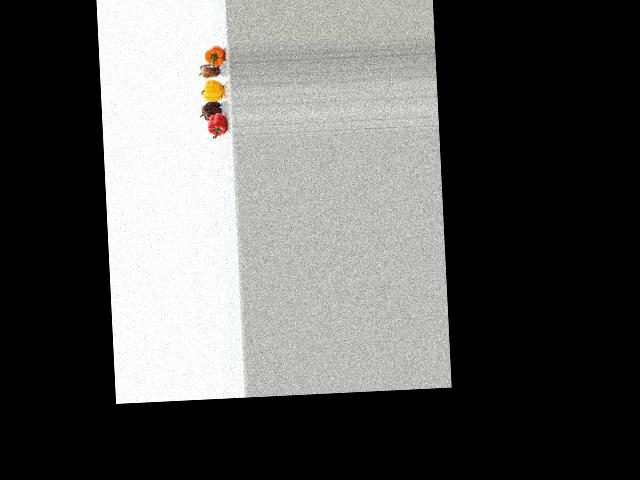bell_pepper: (197, 44, 227, 68)
